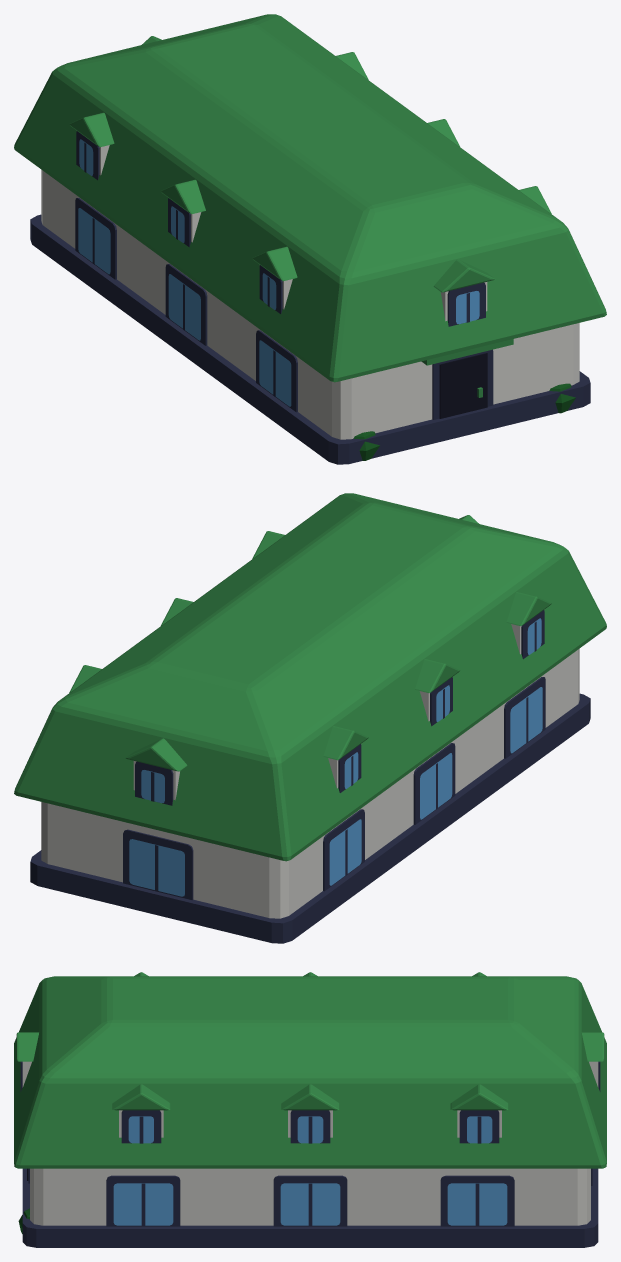
Rendered from house-1x2-1f-mansard-a.glb.
3 views of the same model, one above another, from view 1: azimuth 30°, elevation 25°; view 2: azimuth 150°, elevation 25°; view 3: azimuth 270°, elevation 25° (orthographic). The views are drawn at different scales.
Parts seen in each view (by area): view 1: house-1x2-1f-mansard-a; view 2: house-1x2-1f-mansard-a; view 3: house-1x2-1f-mansard-a.
Boxes of the visible parts, box(x1,y1,x2,y2) form: house-1x2-1f-mansard-a: box(14, 14, 606, 464); house-1x2-1f-mansard-a: box(14, 493, 606, 943); house-1x2-1f-mansard-a: box(14, 972, 606, 1247).
Size of the model in its own units: 0.9876 by 0.7026 by 1.99.
Materials: 1 (1 with a texture image).
